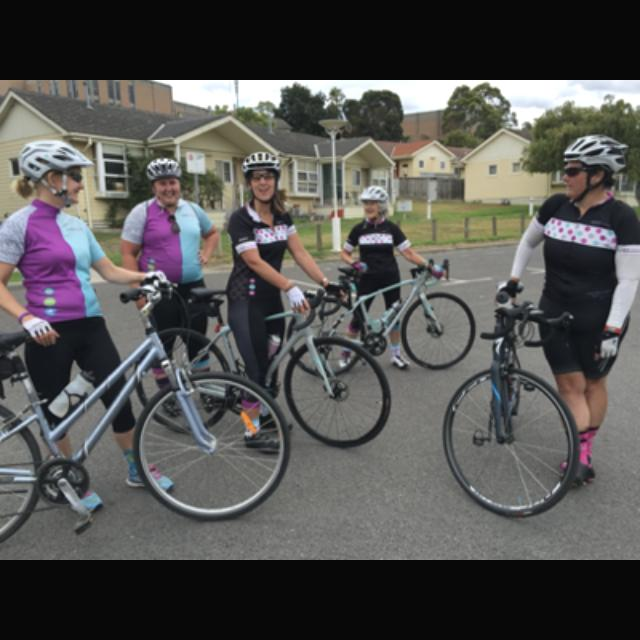With Helmet: (9, 134, 91, 216), (557, 128, 631, 210), (236, 144, 288, 208), (140, 156, 192, 210), (352, 182, 394, 222)
